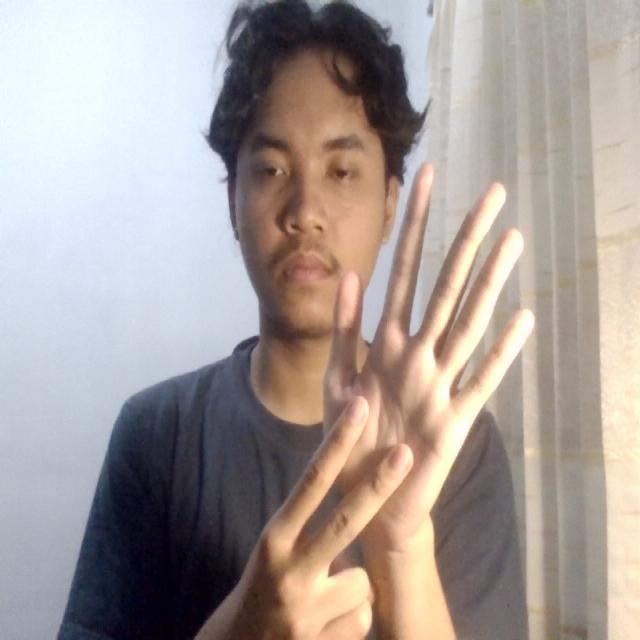IloveYou: (245, 156, 549, 615)
